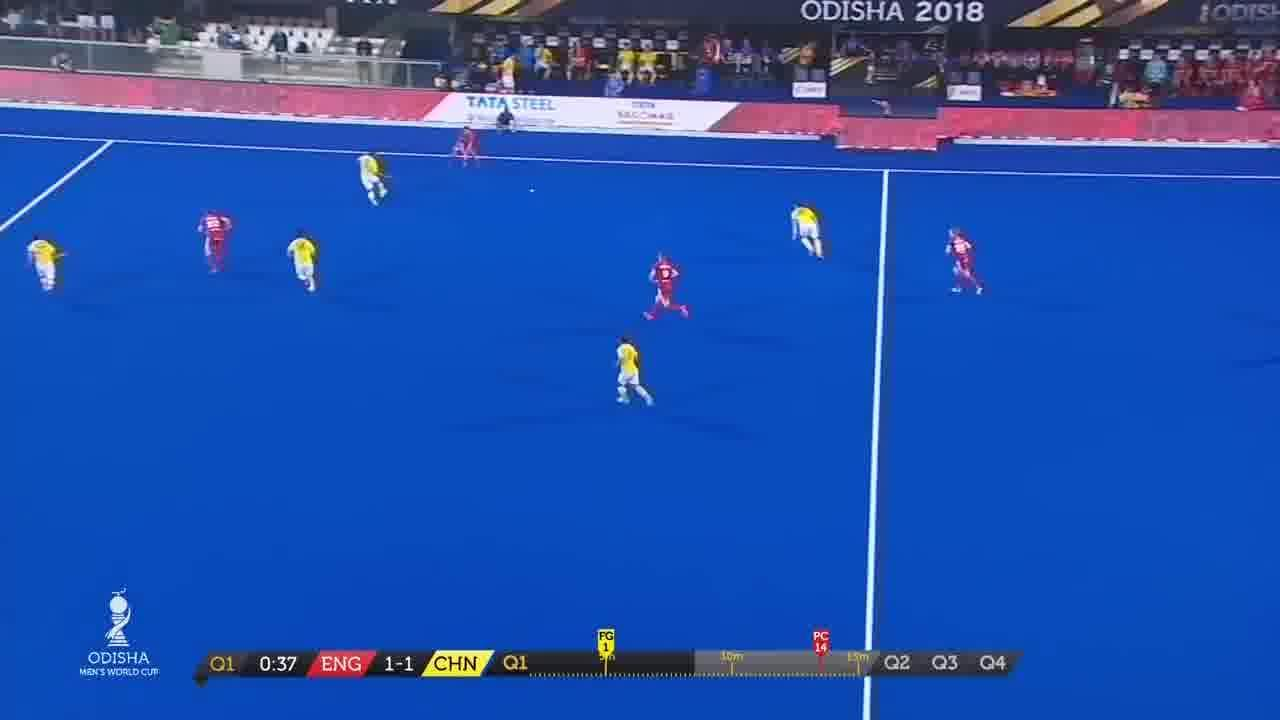ball: (530, 186, 537, 196)
